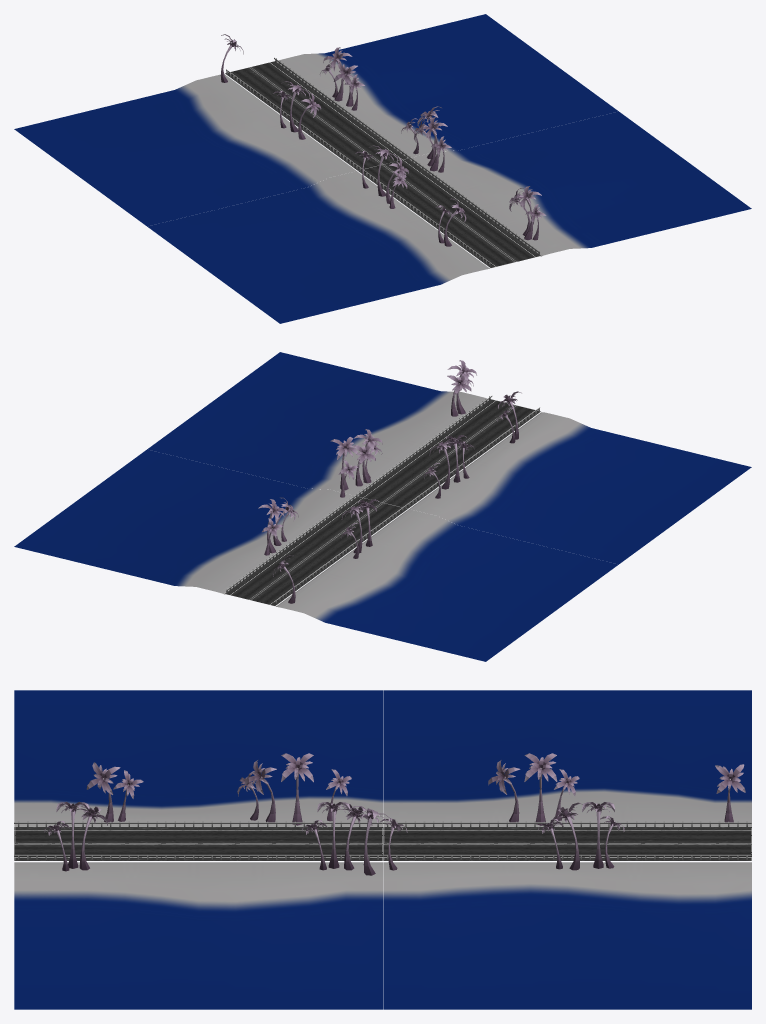
The model's file is miami_road_013.FBX.
3 views of the same model, one above another, from view 1: azimuth 30°, elevation 25°; view 2: azimuth 150°, elevation 25°; view 3: azimuth 270°, elevation 25° (orthographic). The views are drawn at different scales.
Parts seen in each view (by area): view 1: Plane017, Plane047, Plane048, Plane016, Plane049, Plane002, Group001, Group012; view 2: Plane017, Plane047, Plane016, Plane048, Plane002, Plane049, Group012, Group001; view 3: Plane016, Plane048, Plane017, Plane047, Plane002, Plane049, Group001, Group012, palm 018, palm 013, palm 022, palm 021 (+2 smaller).
Part boxes in pixels (box(x1,y1,x2,y2)): Plane017: box(14, 74, 356, 226); Plane047: box(147, 171, 489, 323); Plane048: box(410, 111, 751, 256); Plane016: box(277, 14, 618, 158); Plane049: box(358, 158, 540, 267); Plane002: box(225, 61, 407, 170); Group001: box(226, 57, 406, 169); Group012: box(359, 155, 539, 267); Plane017: box(276, 509, 618, 661); Plane047: box(409, 412, 751, 564); Plane016: box(14, 449, 355, 594); Plane048: box(147, 352, 488, 496); Plane002: box(225, 496, 407, 605); Plane049: box(358, 399, 540, 508); Group012: box(359, 395, 539, 507); Group001: box(226, 493, 406, 604); Plane016: box(383, 862, 751, 1009); Plane048: box(14, 862, 382, 1009); Plane017: box(383, 690, 751, 826); Plane047: box(14, 690, 382, 826); Plane002: box(383, 827, 751, 860); Plane049: box(14, 827, 382, 860); Group001: box(383, 821, 751, 860); Group012: box(14, 821, 382, 860); palm 018: box(524, 753, 557, 825); palm 013: box(281, 753, 313, 825); palm 022: box(715, 764, 745, 822); palm 021: box(86, 762, 120, 822).
Bounding box in the file's own units: 3276 × 348 × 3202.
